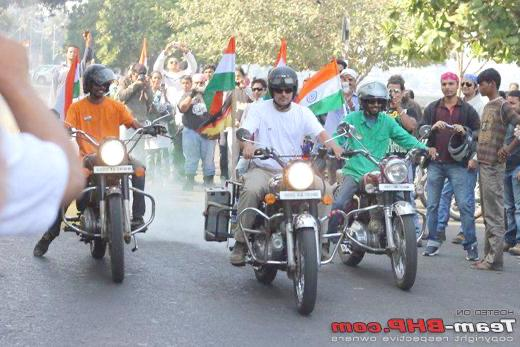With Helmet: (263, 58, 306, 113), (79, 56, 118, 103), (356, 76, 394, 119)
